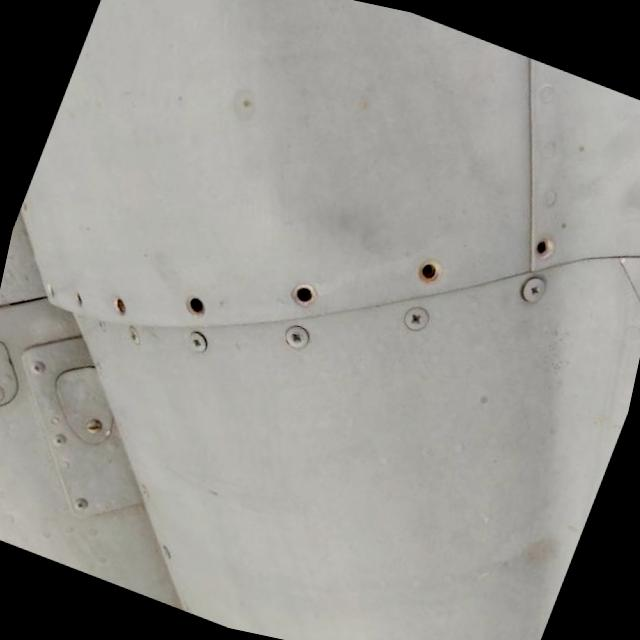Missing Fastener: (287, 278, 323, 312), (414, 256, 447, 288), (534, 235, 560, 262), (184, 294, 210, 318), (112, 294, 130, 314)
